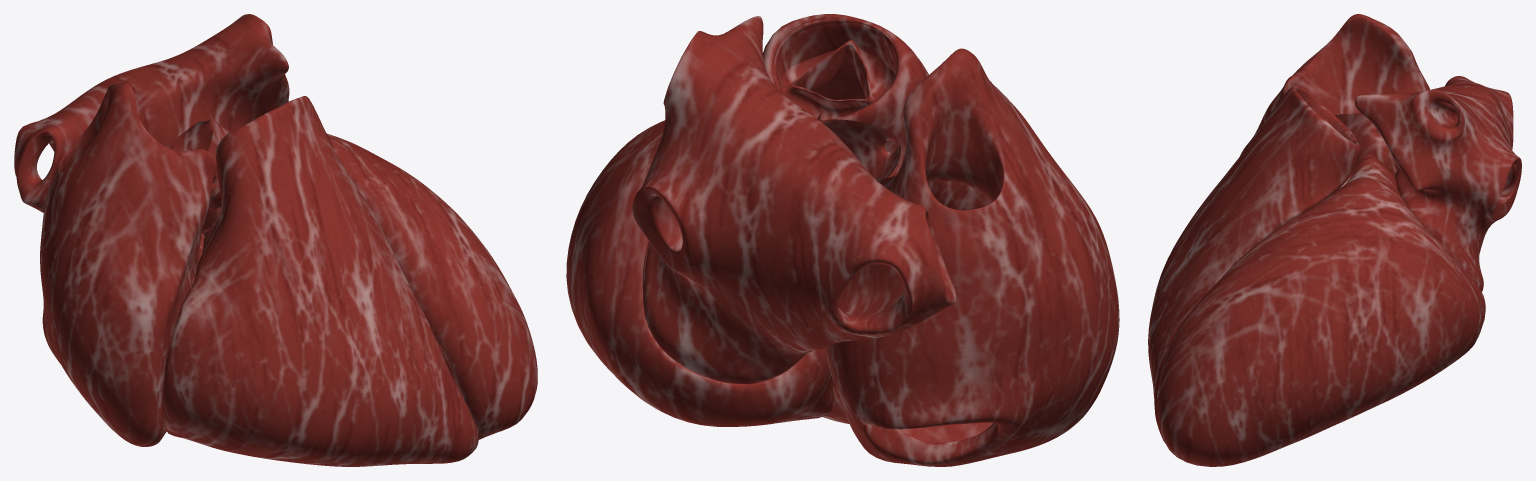
Rendered from heart-male.glb.
3 views of the same model, side by side, from view 1: azimuth 30°, elevation 25°; view 2: azimuth 150°, elevation 25°; view 3: azimuth 270°, elevation 25° (orthographic). The views are drawn at different scales.
Visible parts, largest first — view 1: heart_right_ventricle, right_cardiac_atrium, heart_left_ventricle, left_cardiac_atrium, aortic_valve; view 2: left_cardiac_atrium, right_cardiac_atrium, heart_left_ventricle, heart_right_ventricle, pulmonary_valve, aortic_valve; view 3: heart_left_ventricle, heart_right_ventricle, left_cardiac_atrium, right_cardiac_atrium, aortic_valve.
Part boxes in pixels (x1,y1,x2,y2): heart_right_ventricle: (162,96,478,466); right_cardiac_atrium: (40,82,216,446); heart_left_ventricle: (202,133,537,439); left_cardiac_atrium: (14,14,289,212); aortic_valve: (170,114,229,210); left_cardiac_atrium: (632,16,956,383); right_cardiac_atrium: (826,48,1119,466); heart_left_ventricle: (566,120,833,426); heart_right_ventricle: (763,14,928,423); pulmonary_valve: (773,19,895,119); aortic_valve: (817,112,900,188); heart_left_ventricle: (1156,153,1485,466); heart_right_ventricle: (1148,86,1360,442); left_cardiac_atrium: (1355,76,1521,291); right_cardiac_atrium: (1240,14,1429,155); aortic_valve: (1334,112,1398,169).
Bounding box in the file's own units: 0.1244 × 0.1054 × 0.1052.
Materials: 1 (1 with a texture image).
